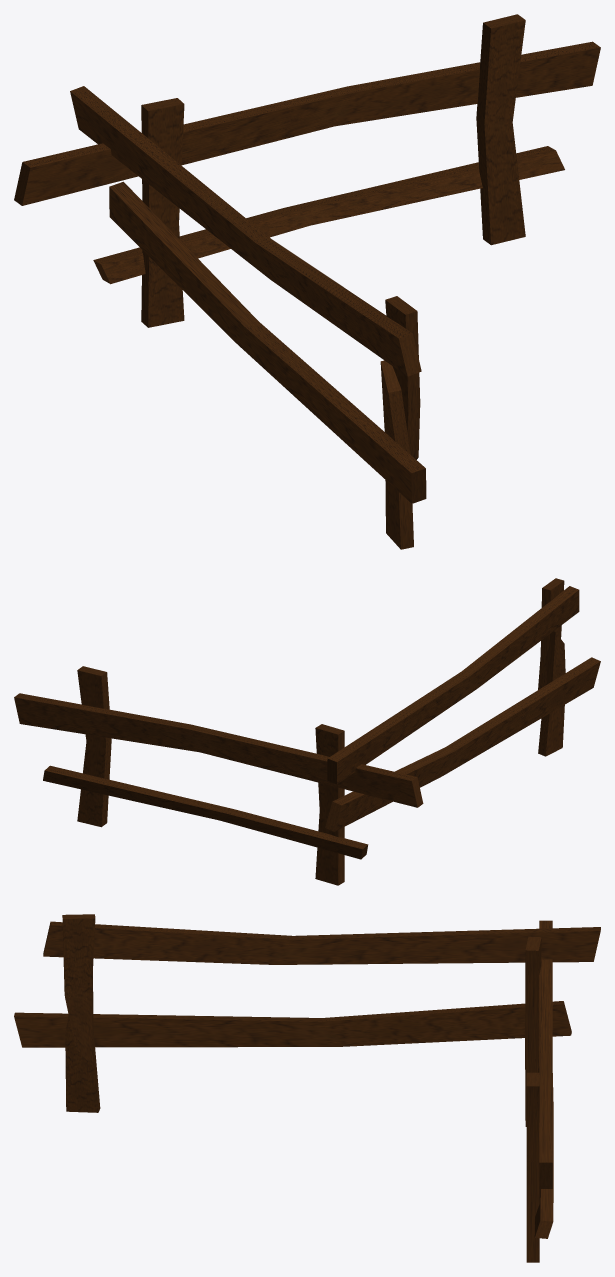
The model's file is barriere_90.FBX.
The picture shows the model from 3 angles, top to bottom: view 1: azimuth 30°, elevation 25°; view 2: azimuth 150°, elevation 25°; view 3: azimuth 270°, elevation 25°; orthographic projection. The views are drawn at different scales.
Parts seen in each view (by area): view 1: barriere90; view 2: barriere90; view 3: barriere90.
Boxes of the visible parts, x1,y1,x2,y2 form: barriere90: (14,14,600,549); barriere90: (14,578,600,885); barriere90: (14,914,600,1262).
Bounding box in the file's own units: 2.78 × 1.09 × 3.
